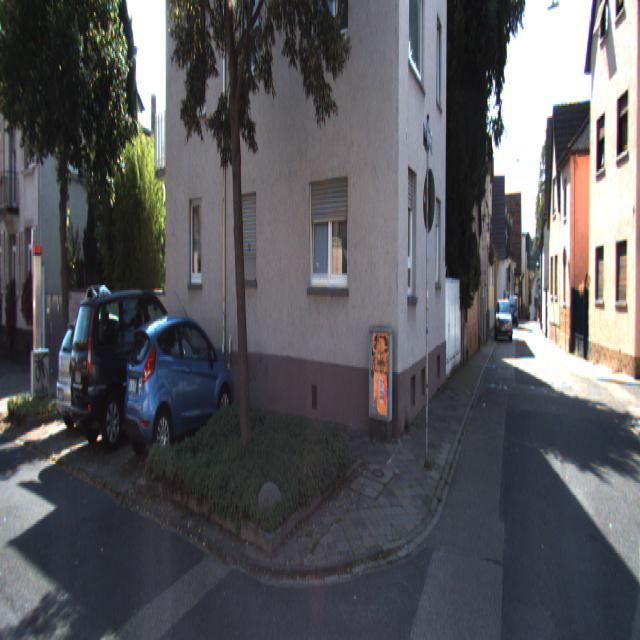Car: (67, 287, 198, 457), (122, 313, 236, 467)
